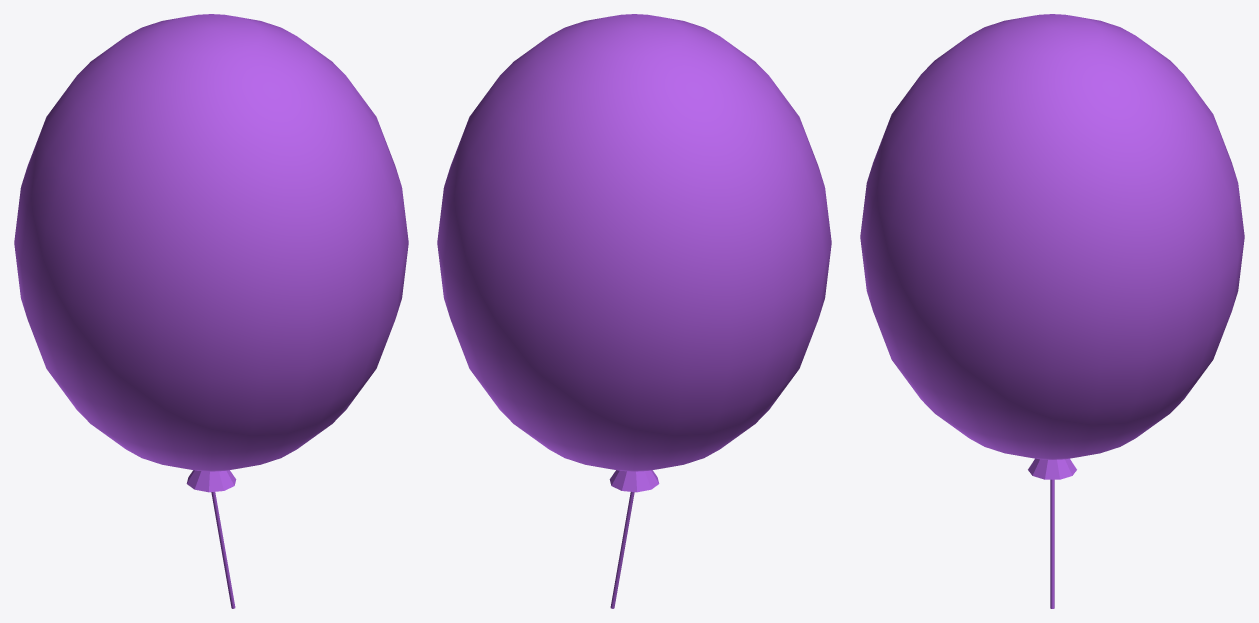
Rendered from balloon_purple.glb.
3 renders of one model, left to right at view 1: azimuth 30°, elevation 25°; view 2: azimuth 150°, elevation 25°; view 3: azimuth 270°, elevation 25°, orthographic. The views are drawn at different scales.
Parts seen in each view (by area): view 1: SM_LatexBalloon; view 2: SM_LatexBalloon; view 3: SM_LatexBalloon.
Boxes of the visible parts, x1,y1,x2,y2 form: SM_LatexBalloon: (14, 14, 408, 608); SM_LatexBalloon: (437, 14, 831, 608); SM_LatexBalloon: (860, 14, 1244, 608).
Size of the model in its own units: 0.28 by 0.4583 by 0.28.
